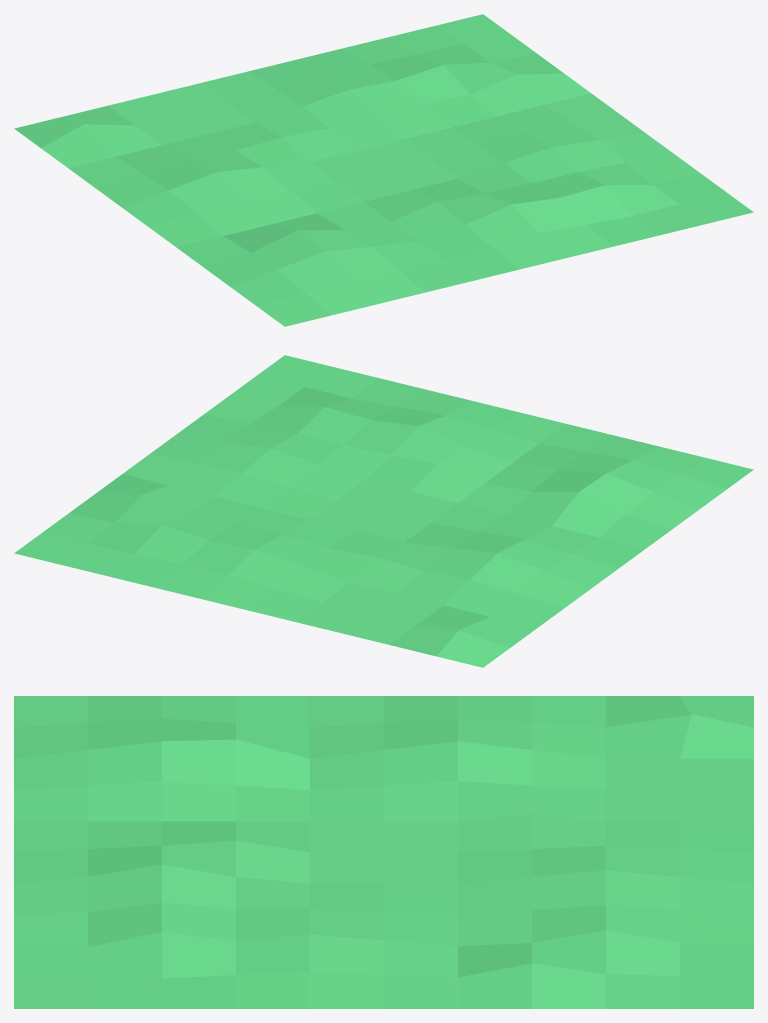
File: EnvironmentPlane.fbx
3 renders of one model, top to bottom at view 1: azimuth 30°, elevation 25°; view 2: azimuth 150°, elevation 25°; view 3: azimuth 270°, elevation 25°, orthographic. The views are drawn at different scales.
Visible parts, largest first — view 1: Plane; view 2: Plane; view 3: Plane.
Boxes of the visible parts, x1,y1,x2,y2 form: Plane: (14,14,753,326); Plane: (14,355,753,667); Plane: (14,696,753,1008).
Size of the model in its own units: 9892 by 302 by 9892.
